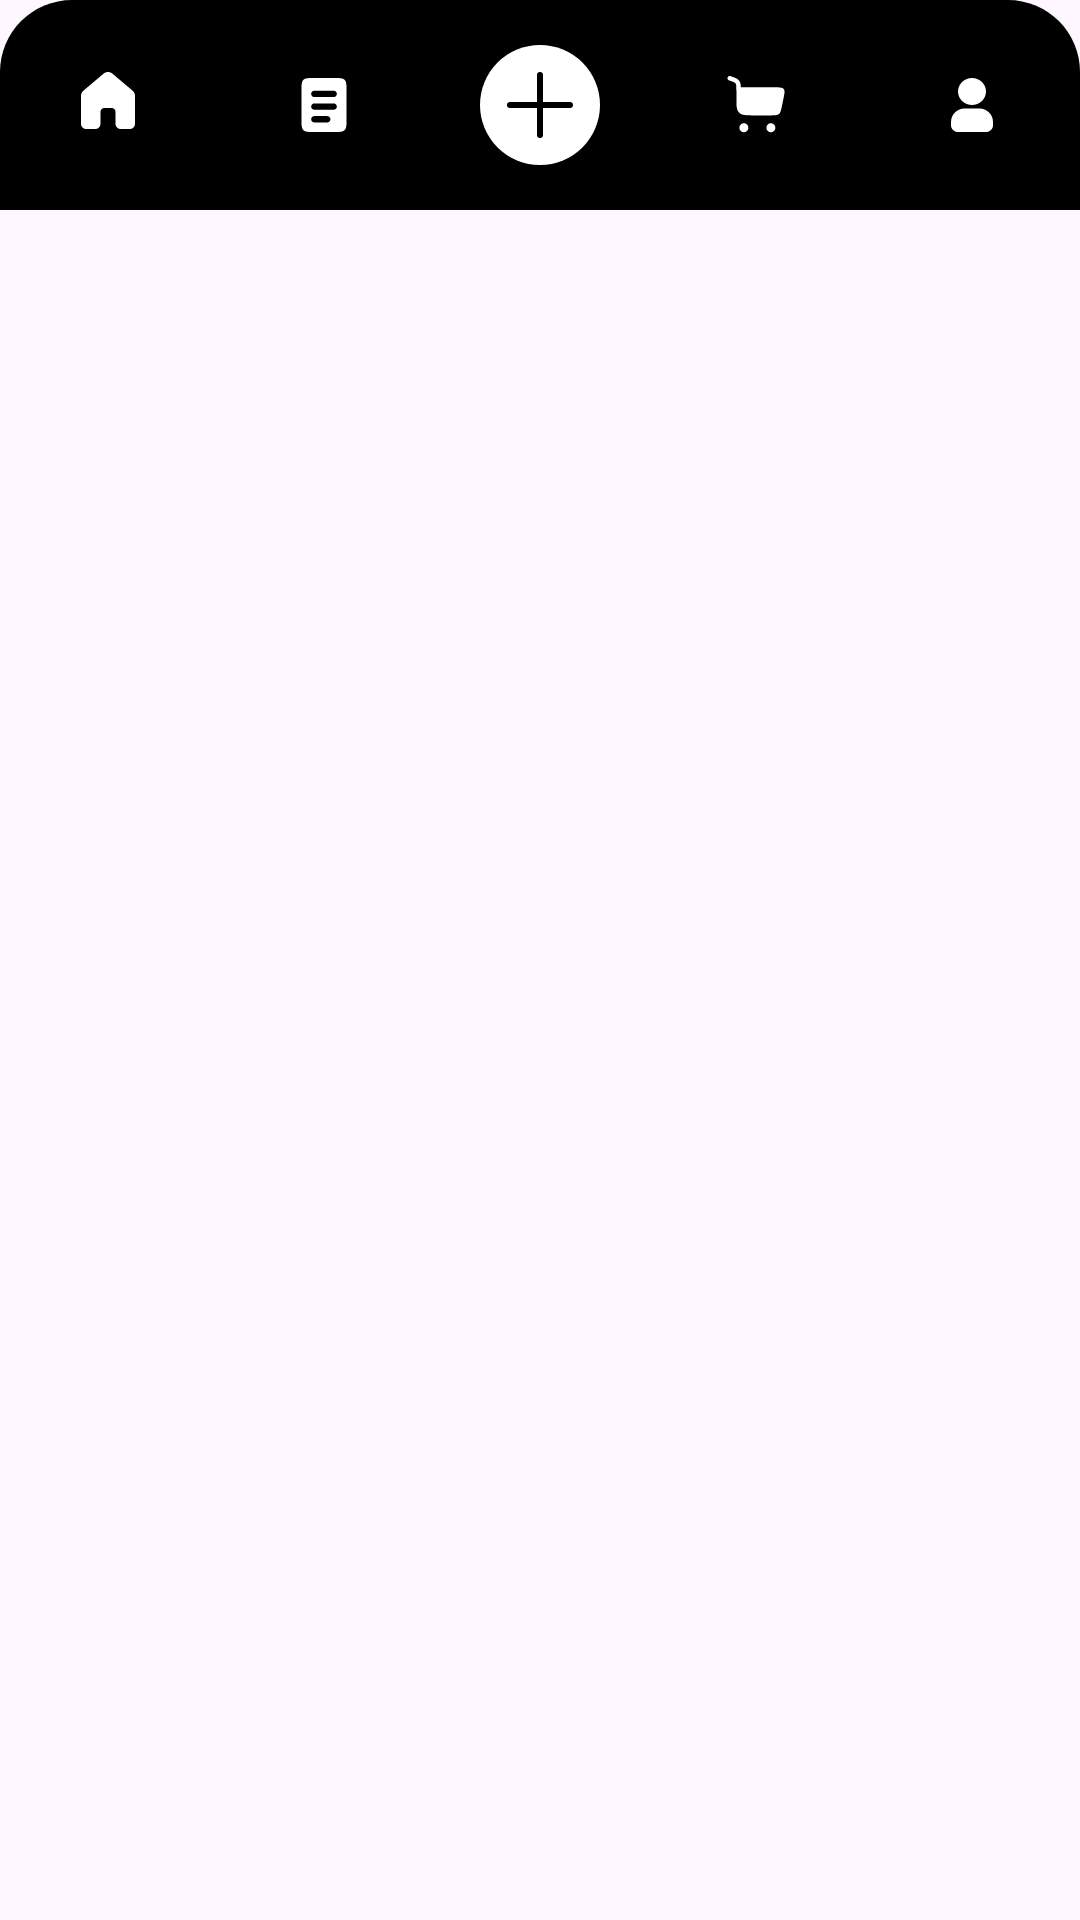

Icons on this 1080×1920 Android screen, each with the point to tap as [x,y]:
add plus: [540,105]
cart: [756,104]
home: [108,100]
order: [324,105]
user: [972,105]
